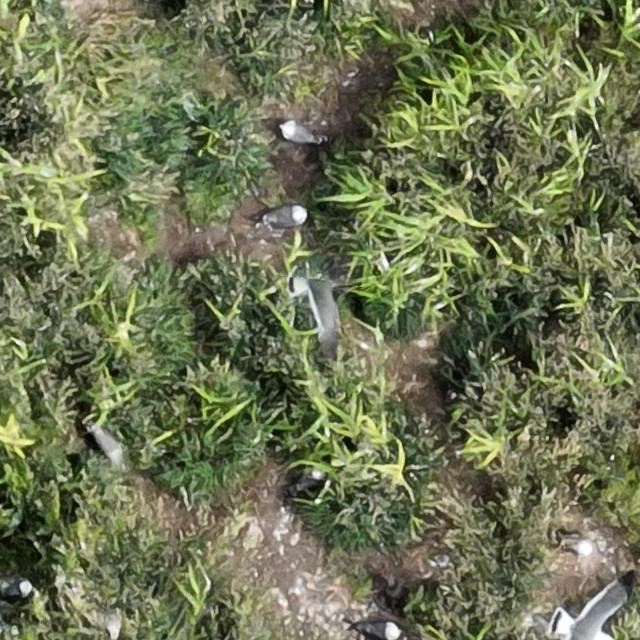F: (288, 244, 342, 339), (556, 590, 626, 640)
umineko: (264, 206, 305, 228), (95, 428, 122, 459), (281, 123, 318, 143), (1, 576, 33, 598), (359, 621, 399, 638)
